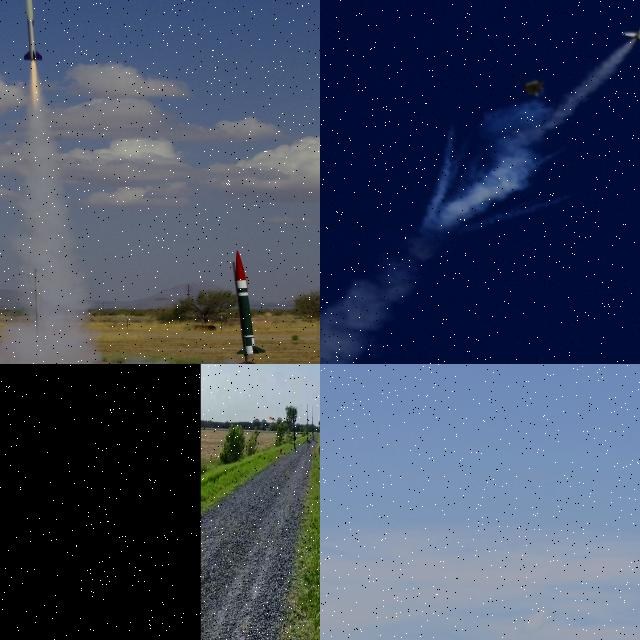Rocket: (236, 250, 266, 358), (23, 0, 42, 60), (622, 0, 640, 42), (293, 416, 296, 441)
